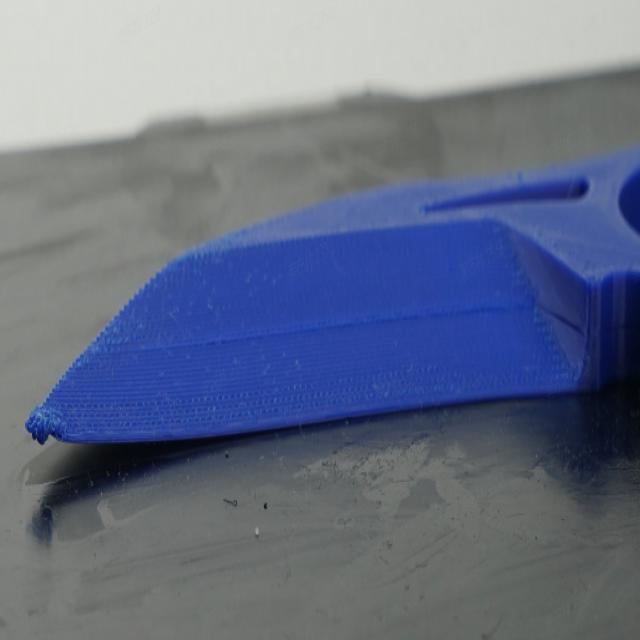warping: (8, 396, 256, 480)
